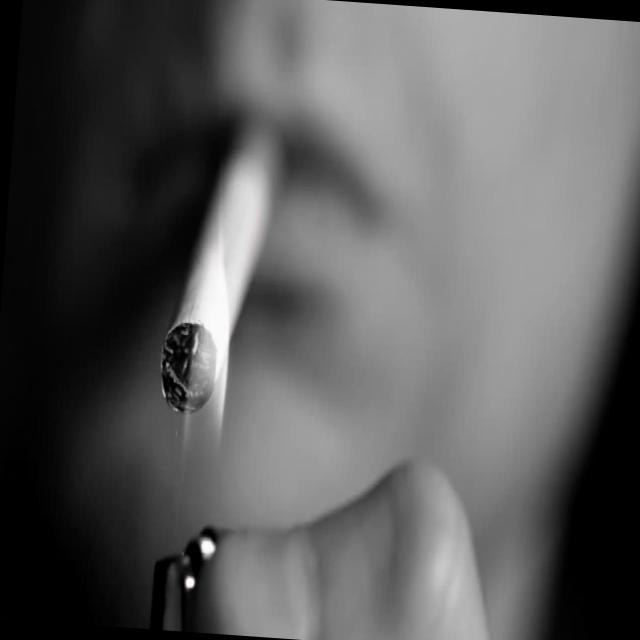cigarette: (152, 123, 287, 432)
